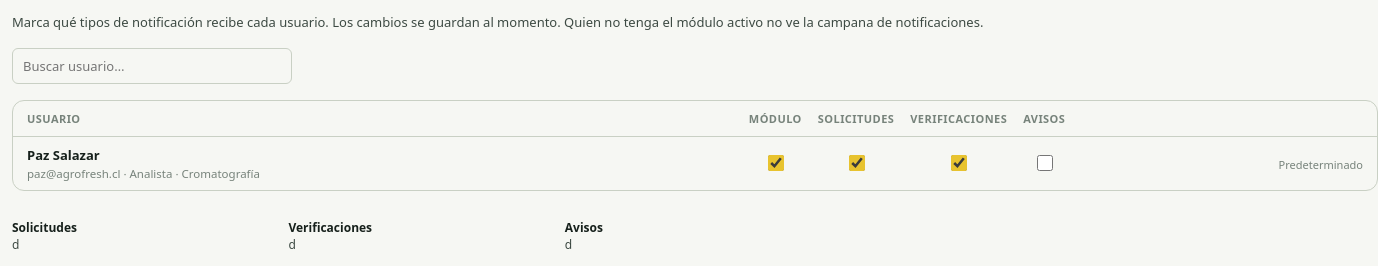
it: SuscripcionesPanel › apagar el módulo deja al usuario sin ningún tipo
Click the checkbox named "Módulo de notificaciones para Paz Salazar" at (776, 163), box [768,155,784,171]
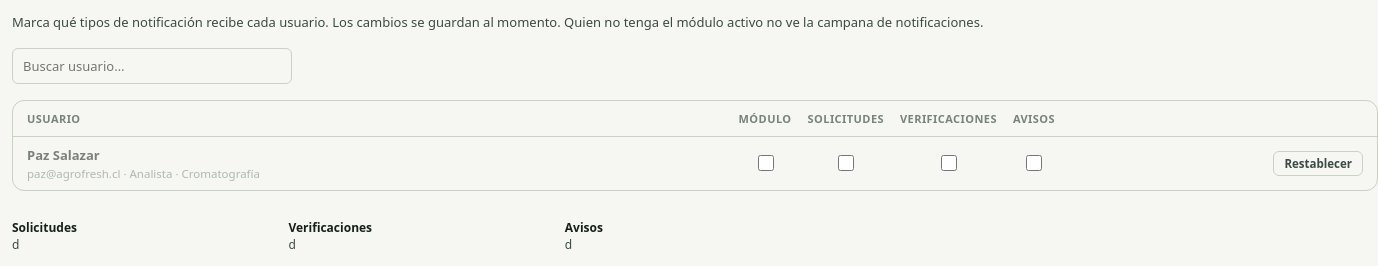
Expected: the checkbox named "Nueva solicitud de análisis para Paz Salazar" is not checked, [838,155,854,171]
